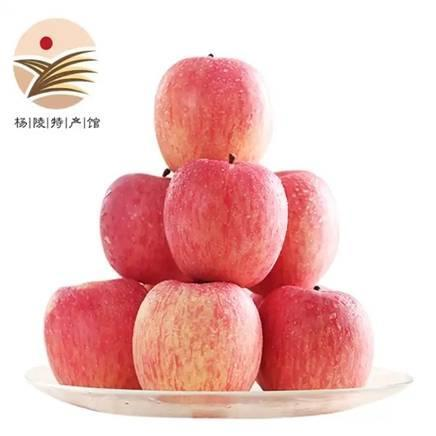apple: (166, 155, 288, 285), (133, 280, 266, 395), (153, 55, 270, 167), (249, 284, 372, 390), (41, 277, 152, 390), (98, 172, 187, 284), (260, 169, 336, 293)
